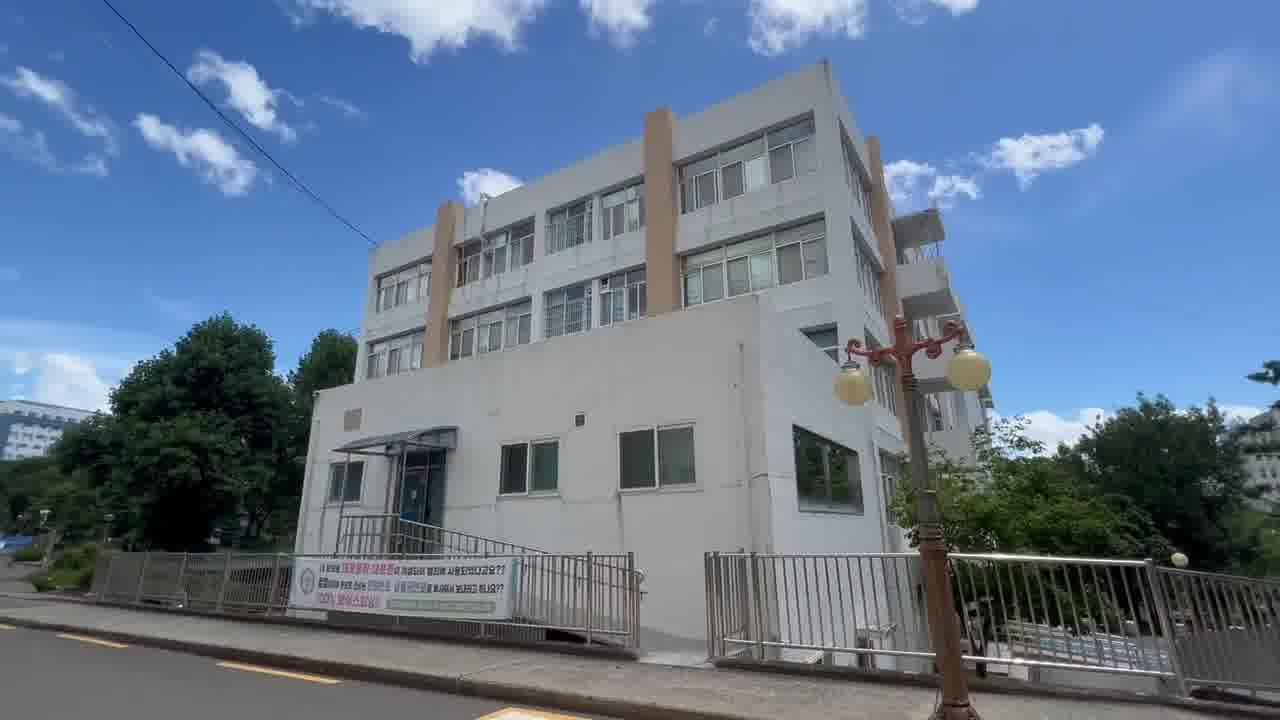building: (323, 98, 896, 559)
